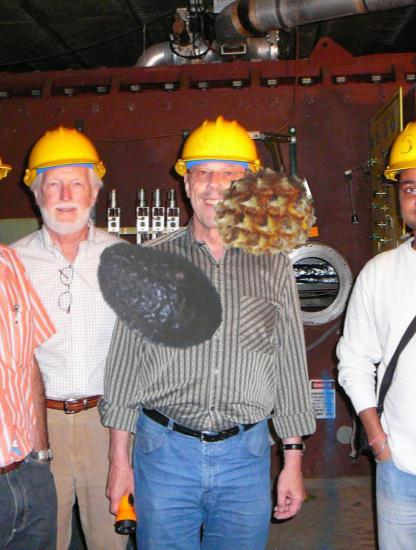Avocado: (88, 226, 226, 364)
Pineapple: (212, 162, 316, 266)
